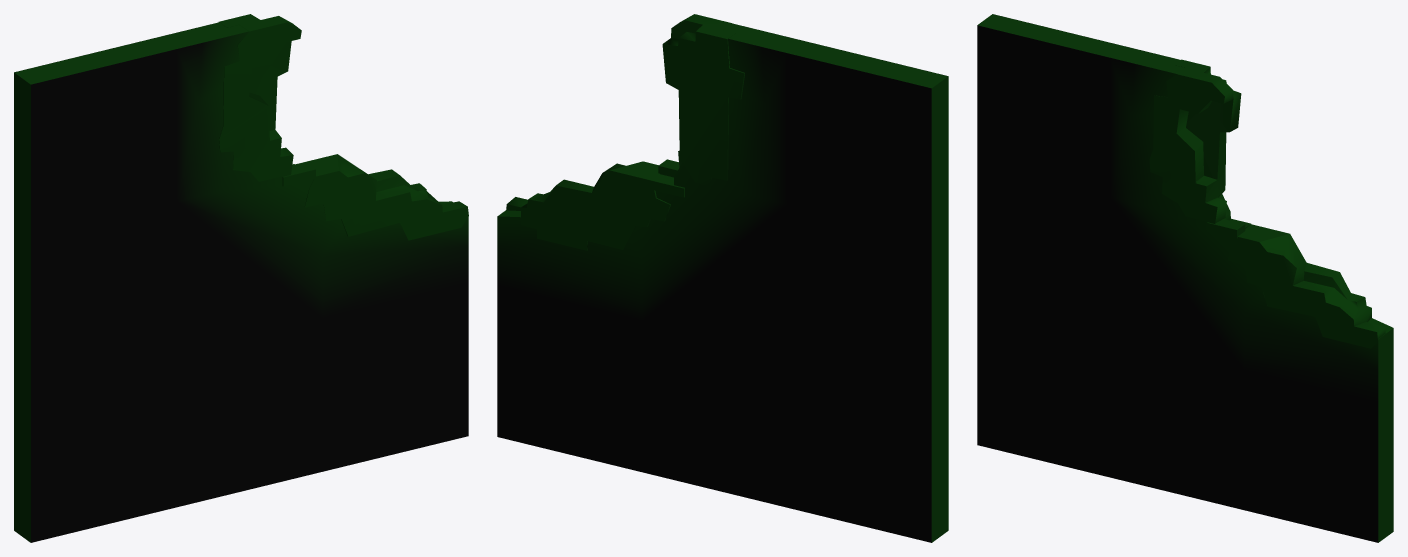
File: DBK_Brick_90_B.fbx
3 renders of one model, left to right at view 1: azimuth 30°, elevation 25°; view 2: azimuth 150°, elevation 25°; view 3: azimuth 330°, elevation 25°, orthographic. The views are drawn at different scales.
Parts seen in each view (by area): view 1: DBK_Brick_90_B; view 2: DBK_Brick_90_B; view 3: DBK_Brick_90_B.
Boxes of the visible parts, box(x1,y1,x2,y2) form: DBK_Brick_90_B: box(14, 14, 468, 542); DBK_Brick_90_B: box(497, 14, 948, 542); DBK_Brick_90_B: box(977, 14, 1393, 542).
Bounding box in the file's own units: 300 × 300 × 21.98.
